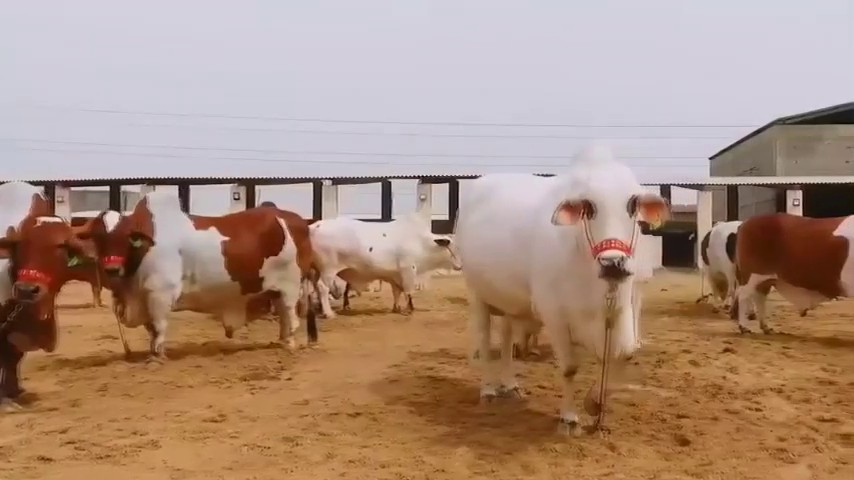bo: (451, 133, 664, 444), (88, 174, 320, 362), (3, 169, 85, 426), (308, 204, 463, 324), (737, 199, 854, 343), (690, 202, 749, 309)
